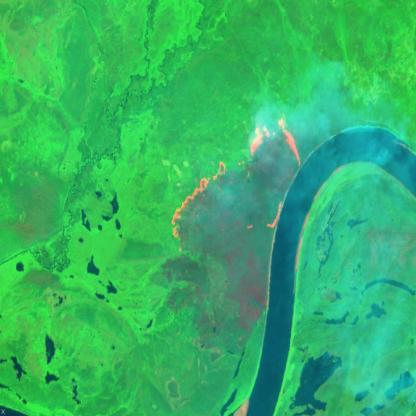fire: (167, 117, 302, 258)
